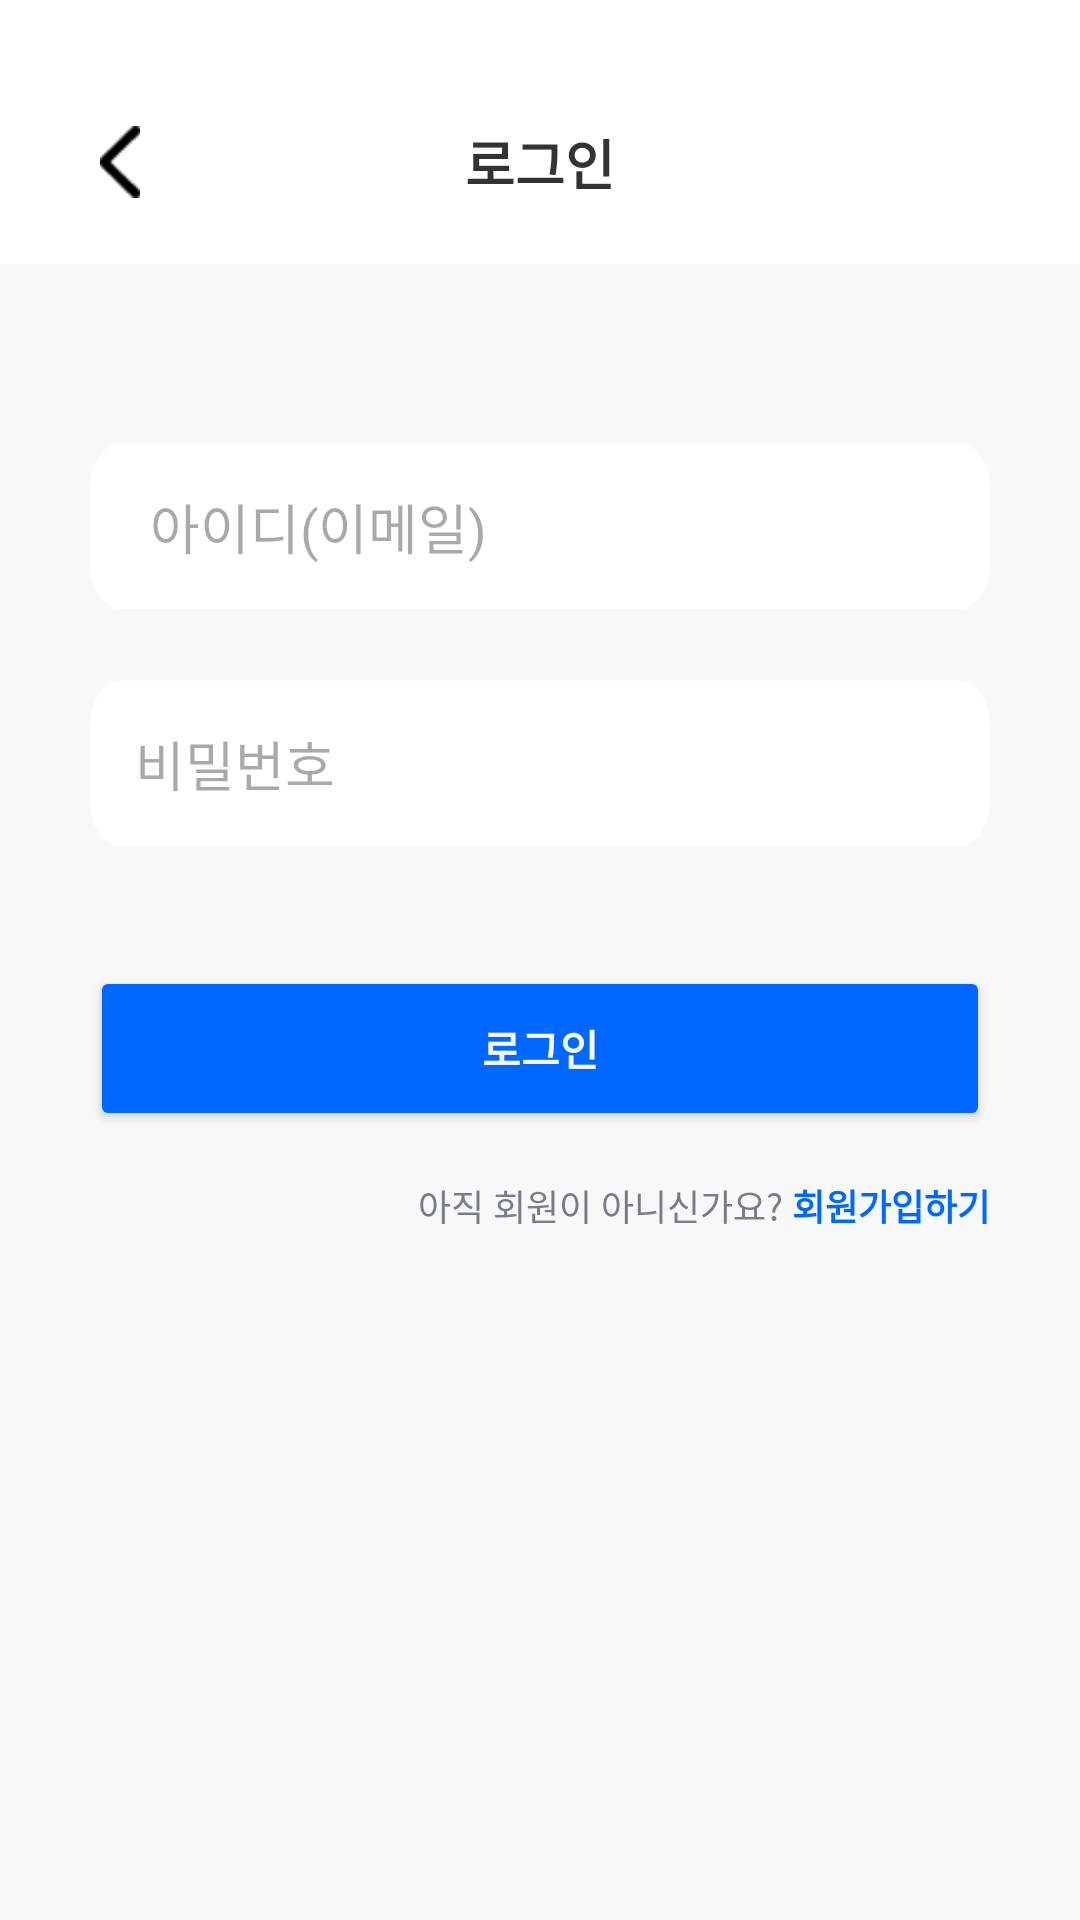

Locate icon controls on the screen. Image size 1080×1920, boxes as (x1, y1, x2, y2).
뒤로가기: (100, 126, 140, 198)
